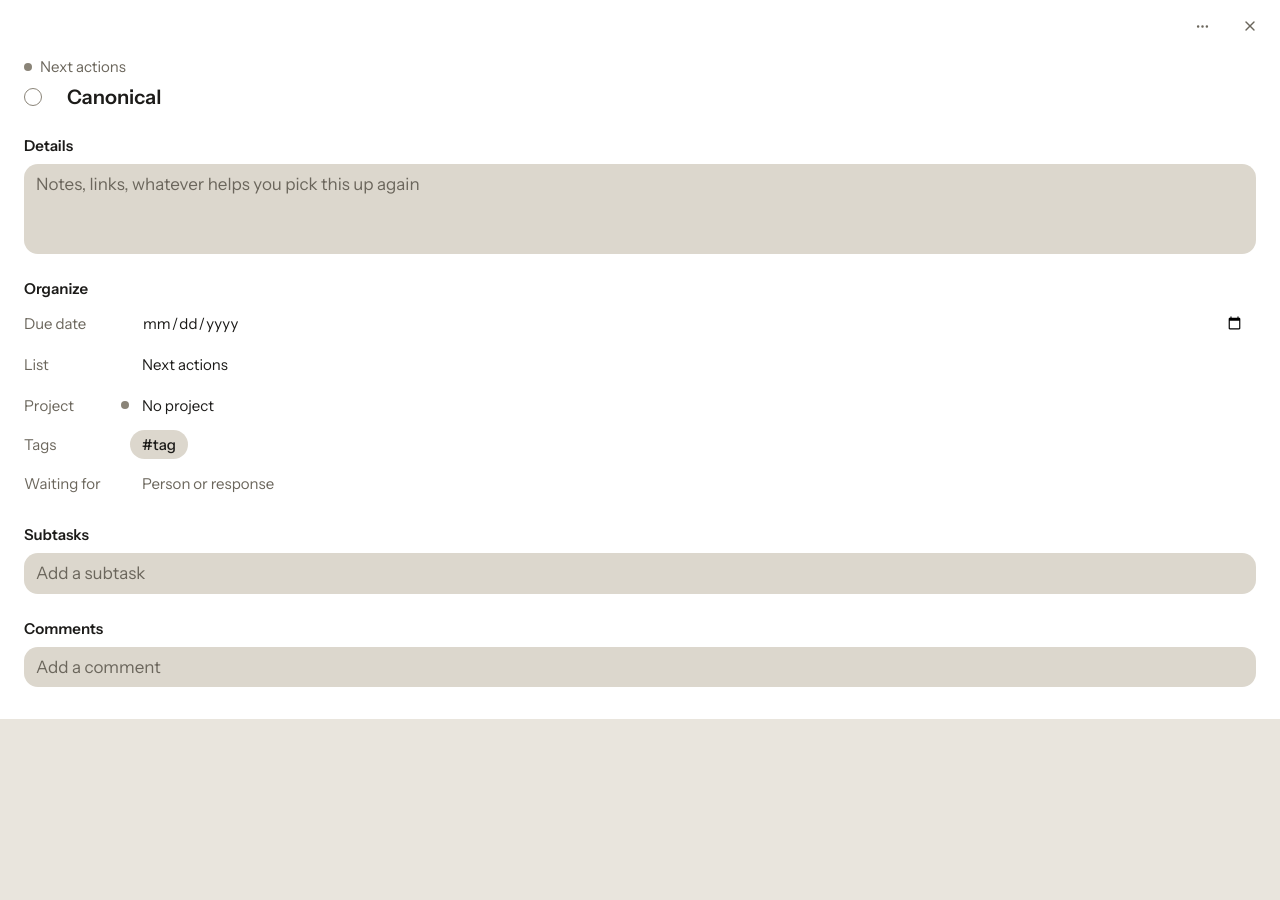
Test: task detail autosave contract UI › renders exact conflict copy, preserves focus, and uses inline discard confirmation
Clear the text box named "Title": (658, 98) [59,81,1256,114]
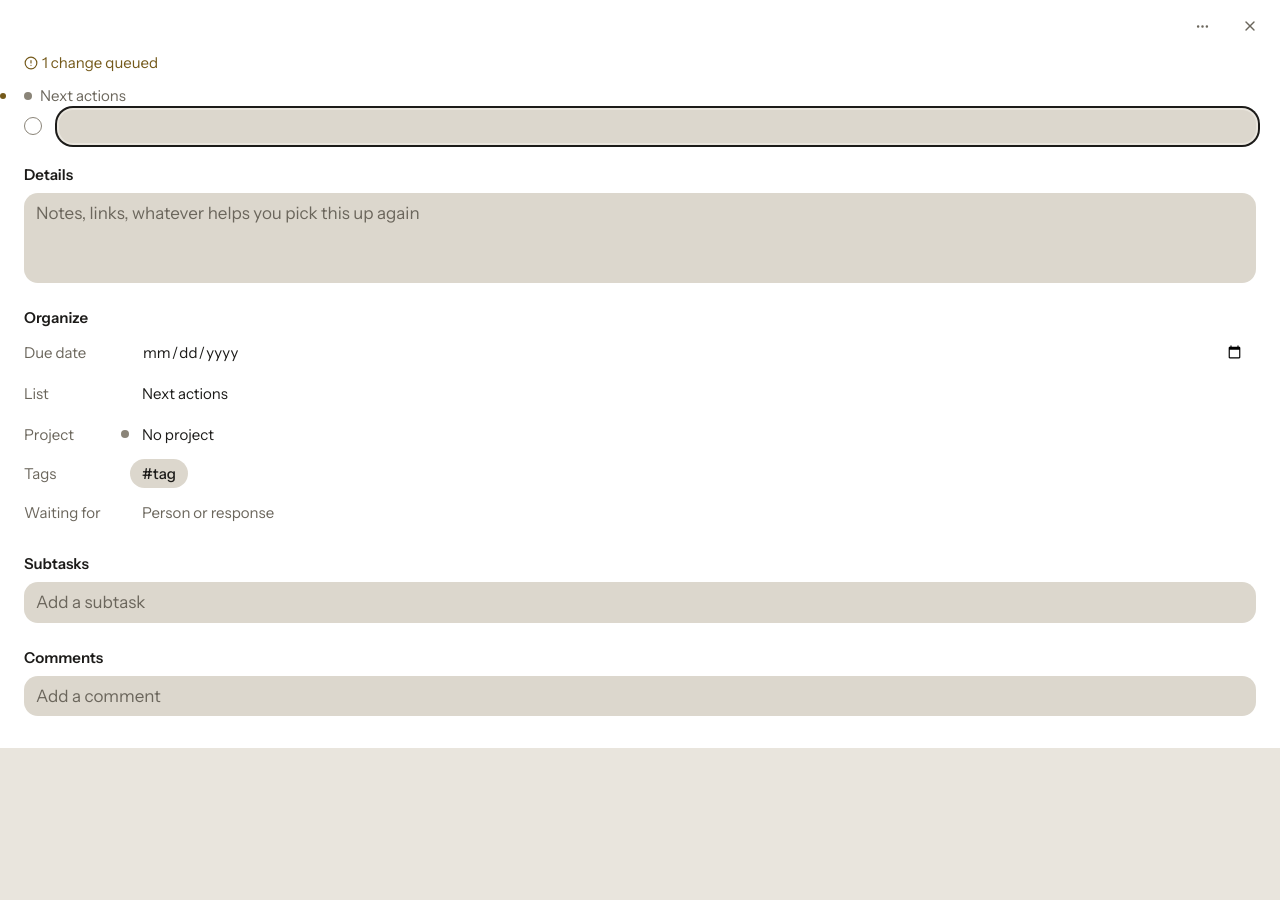
In the text box named "Title": (658, 126) [59,110,1256,143], type "Local"
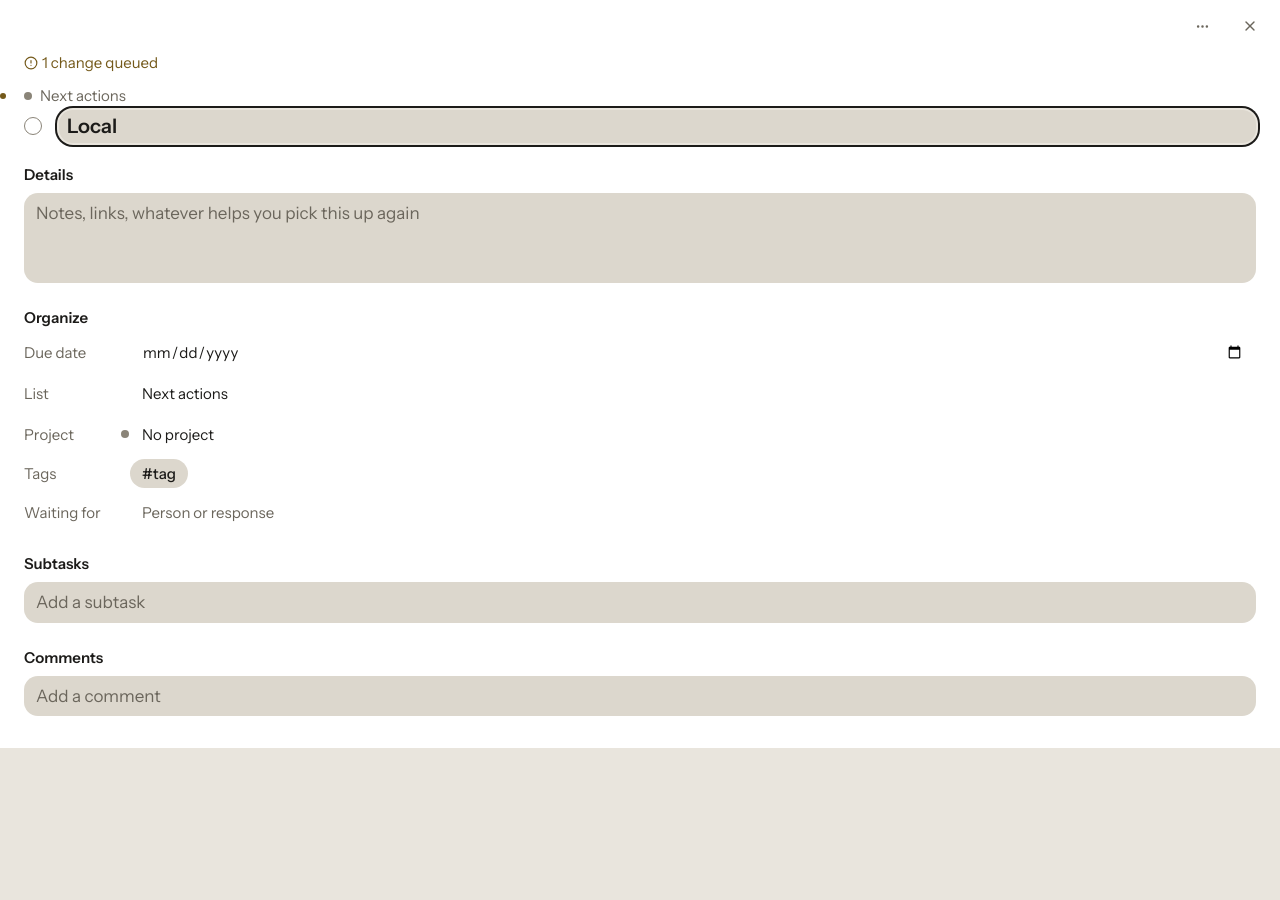
Press Tab
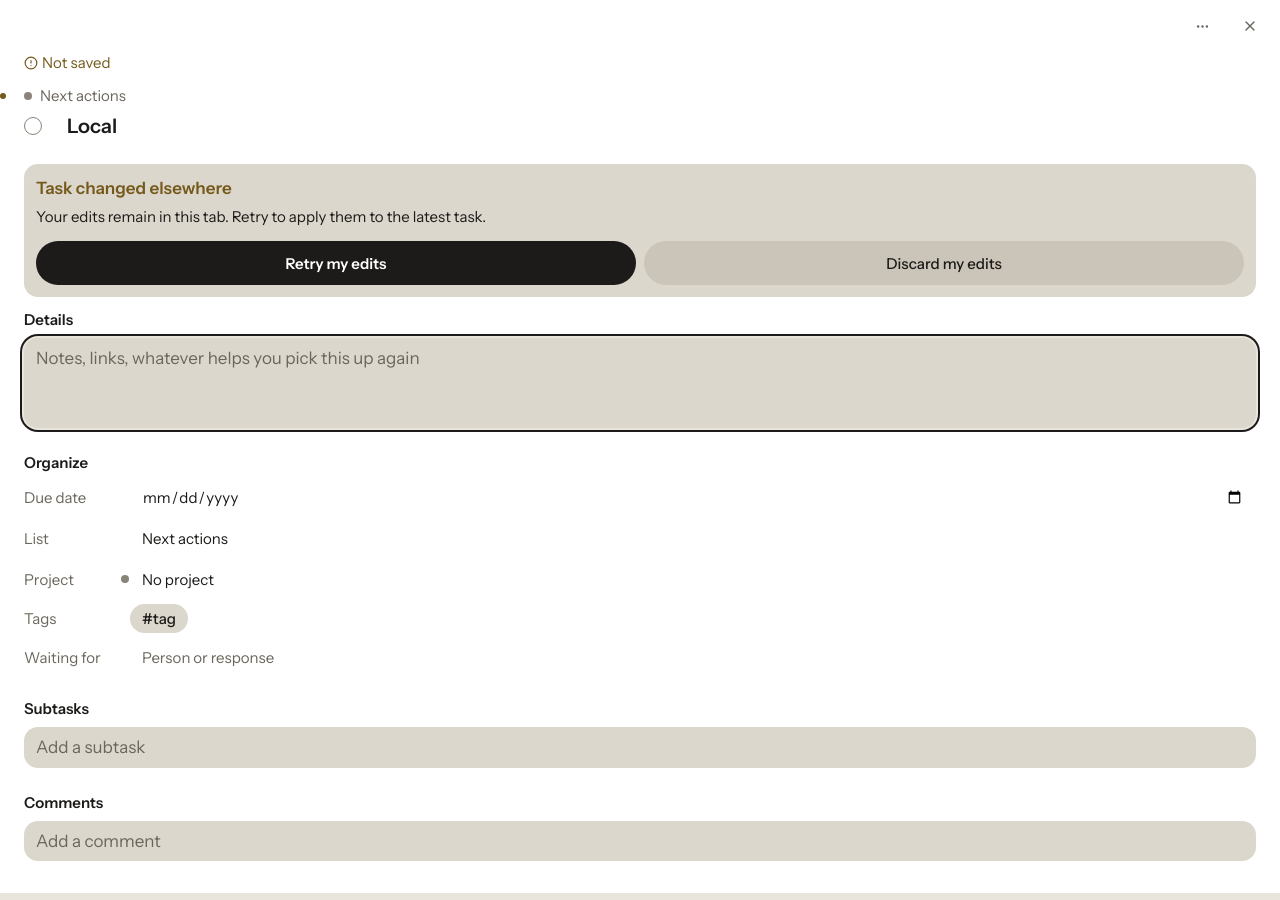
Now the message shows "Task changed elsewhere", box [36,178,232,198]
Now the text "Your edits remain in this tab. Retry to apply them to the latest task." is shown, box [36,207,486,226]
Now the button "Retry my edits" is shown, box [36,241,636,285]
Click the button "Discard my edits": click(944, 263) [644,241,1244,285]
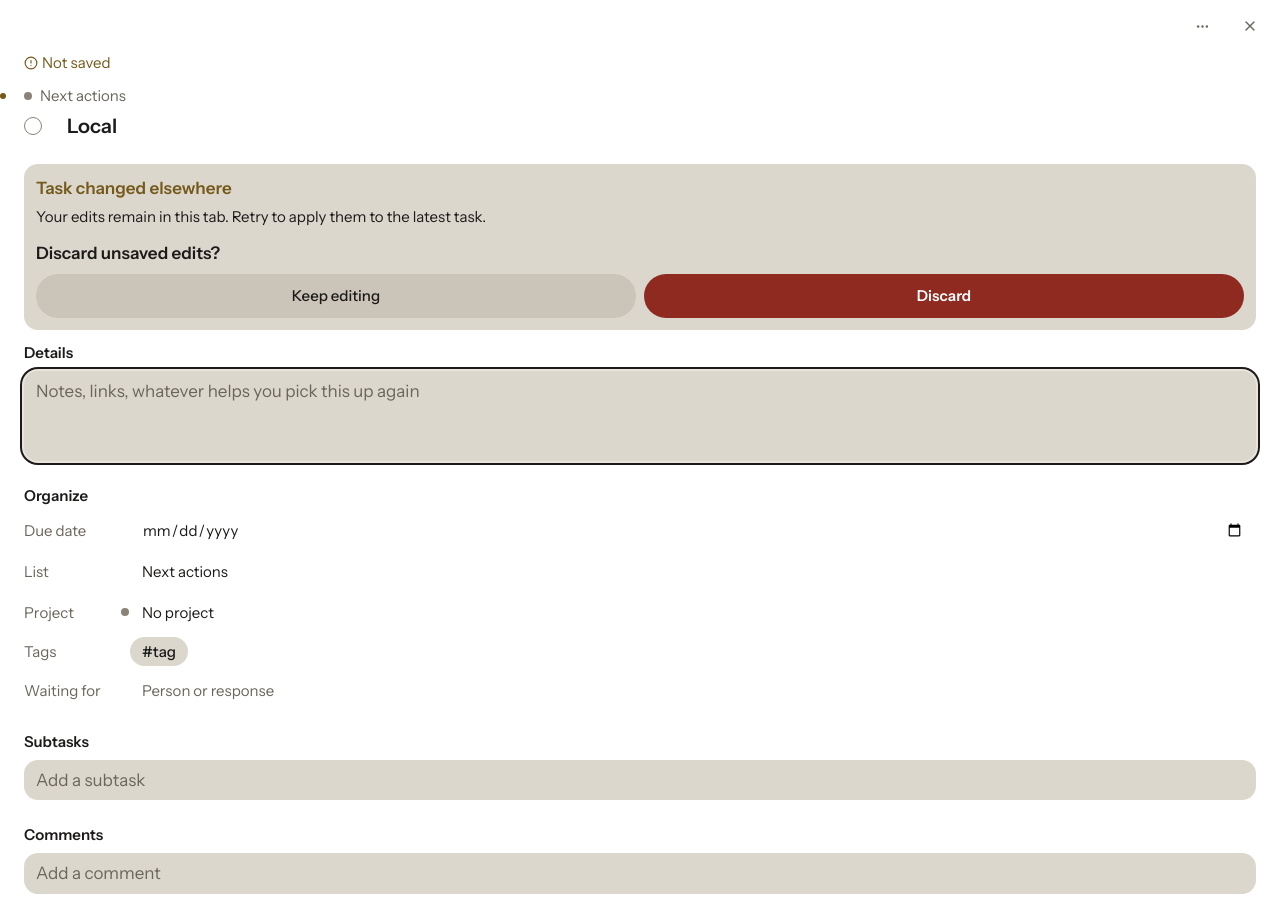
Now the text "Discard unsaved edits?" is shown, box [36,243,220,263]
Now the button "Keep editing" is shown, box [36,274,636,318]
